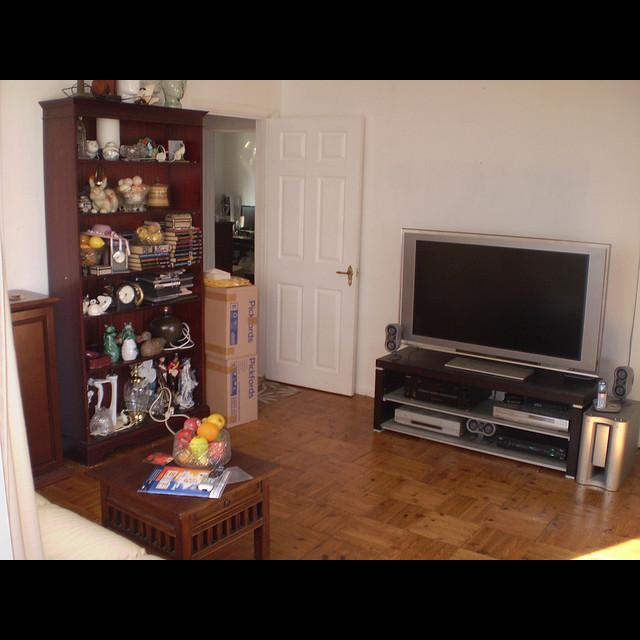Flat-Panel-TV: (399, 227, 620, 380)
